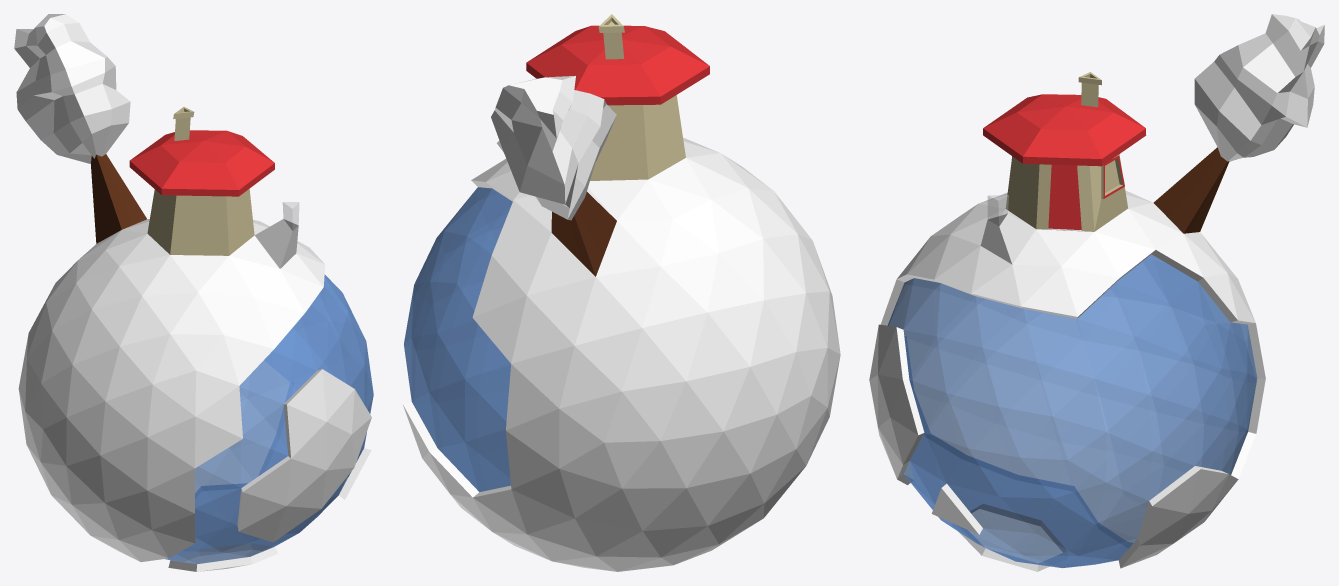
The model's file is winter-planet-task7-cart263.gltf.
The picture shows the model from 3 angles, left to right: view 1: azimuth 30°, elevation 25°; view 2: azimuth 150°, elevation 25°; view 3: azimuth 270°, elevation 25°; orthographic projection. The views are drawn at different scales.
Parts seen in each view (by area): view 1: winter-planet; view 2: winter-planet; view 3: winter-planet.
Part boxes in pixels (x1,y1,x2,y2): winter-planet: (14,14,373,571); winter-planet: (402,14,840,571); winter-planet: (869,14,1324,571).
Size of the model in its own units: 1.96 by 2.87 by 2.3.
